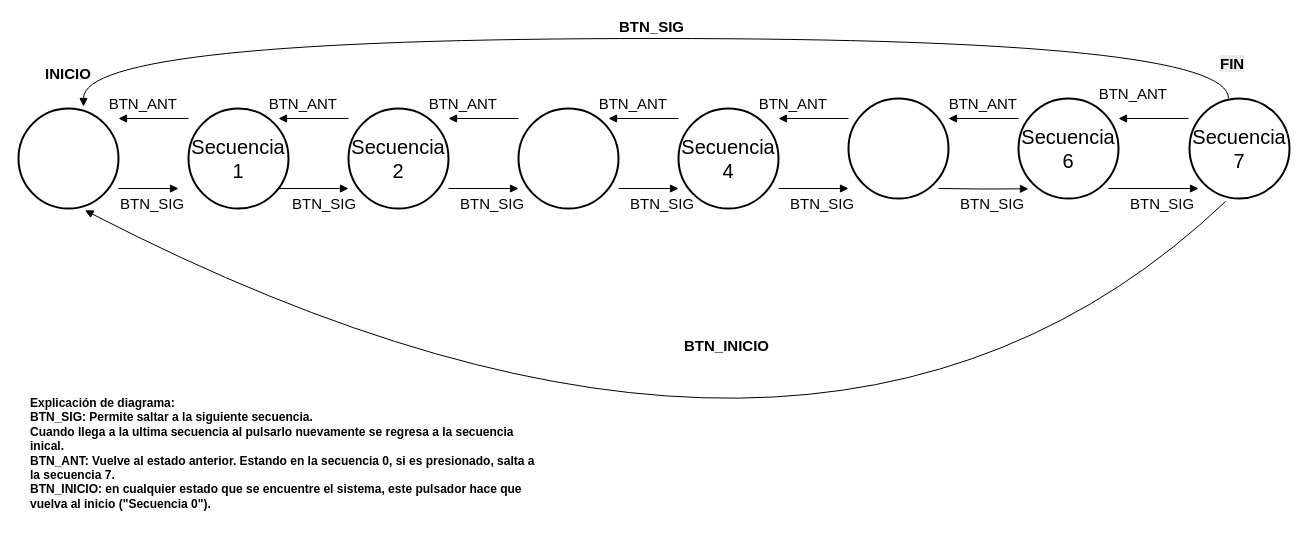
This 1307x535 diagram has some shape labels left out. Here are the shapes that lost their labels. From the top down, the box of each, then its label:
(17, 107, 119, 209): Secuencia 0
(517, 107, 619, 209): Secuencia 3
(847, 97, 949, 199): Secuencia 5
